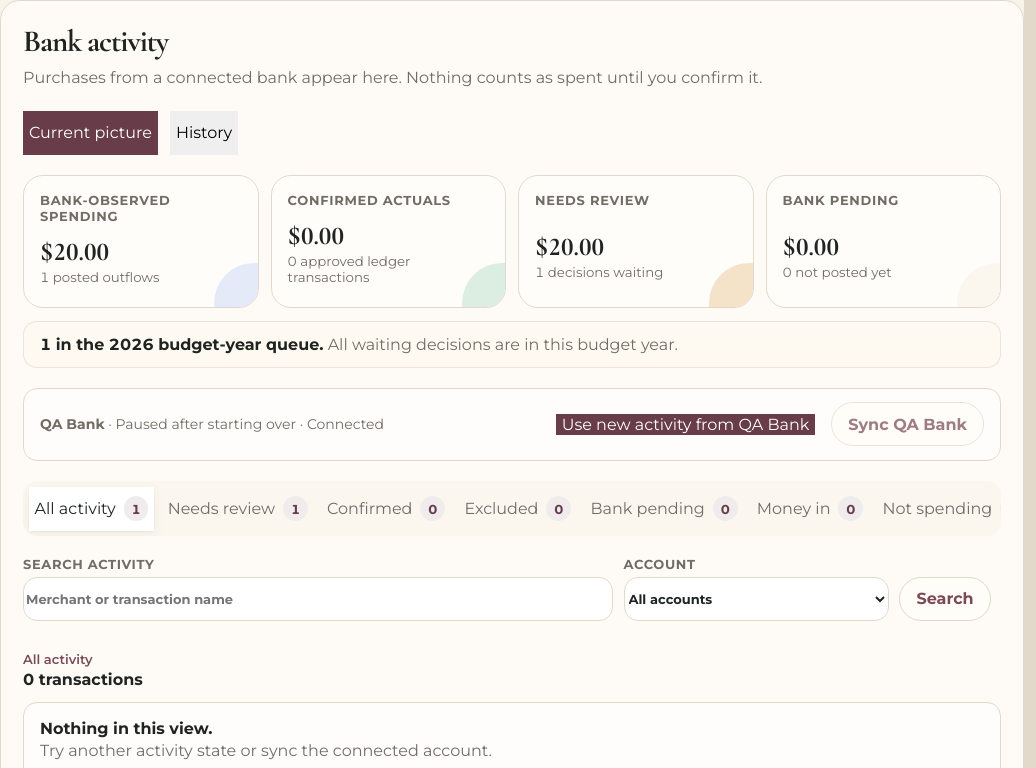
Test: History uses its own server scope and cannot select or stage even malformed stageable rows
The image size is (1036, 768).
Click the button "History".
click(204, 133)  # box [170,111,238,155]
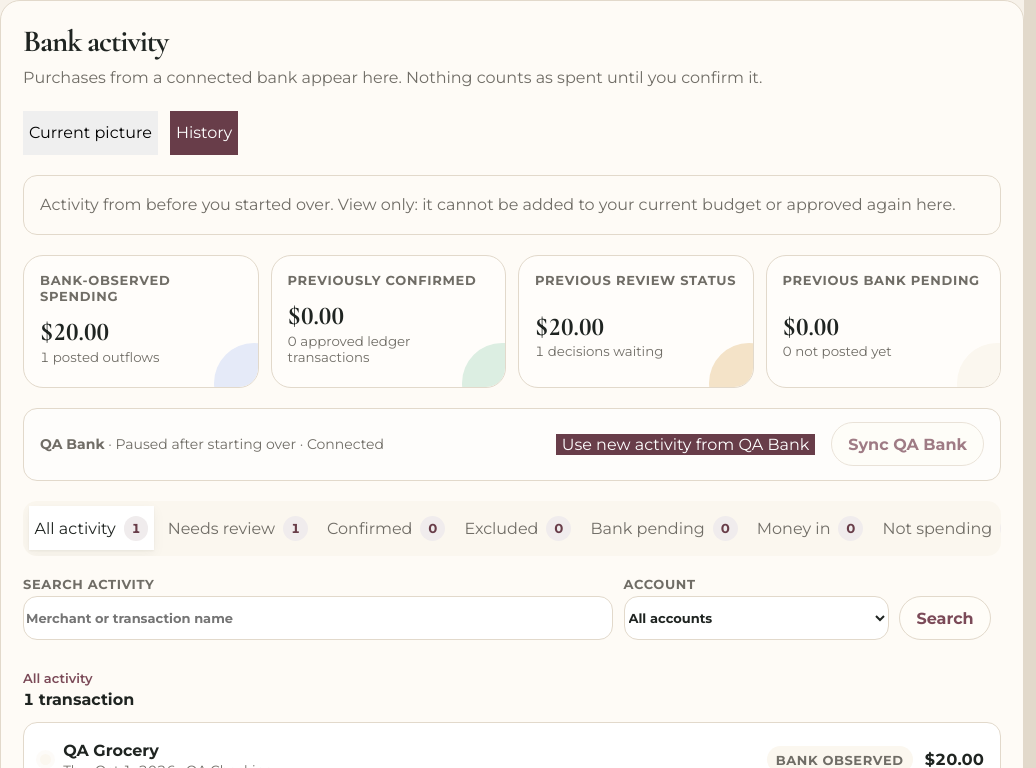
Check: the text "QA Grocery" is shown, box [63,741,159,760]
